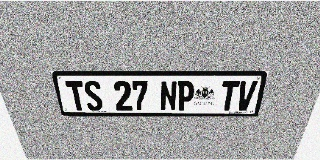2: (113, 81, 132, 111)
7: (131, 81, 149, 111)
N: (160, 81, 177, 111)
P: (177, 81, 195, 111)
S: (82, 81, 104, 111)
T: (65, 81, 87, 111), (219, 81, 240, 111)
V: (235, 81, 258, 111)
